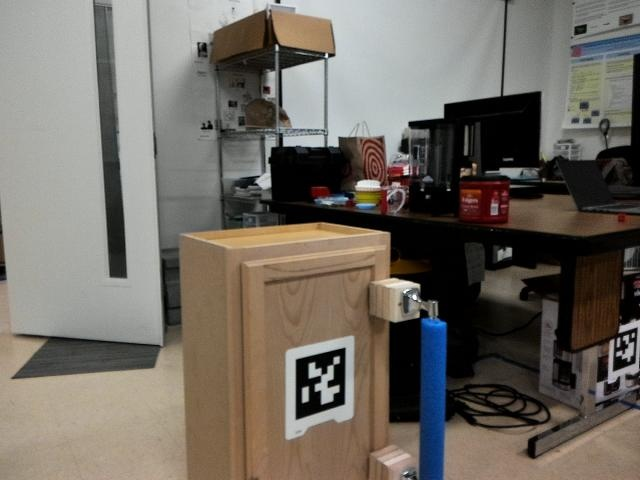noodle_handle: (408, 300, 451, 480)
